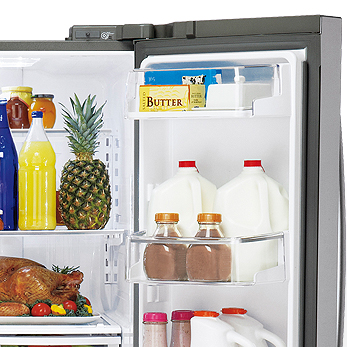milk: (148, 162, 289, 274), (189, 307, 283, 347)
